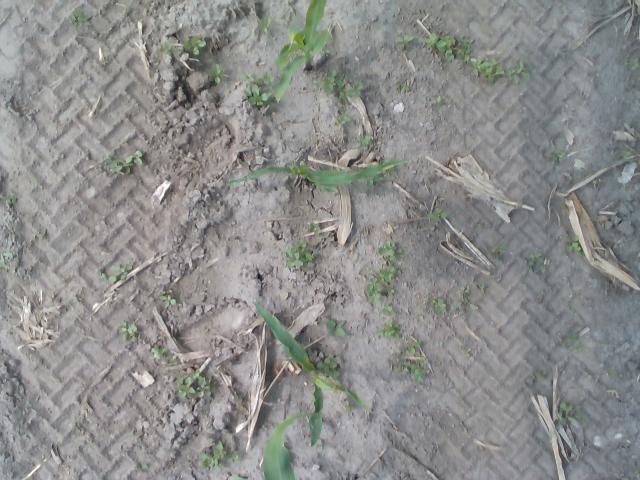Maize: (250, 299, 376, 447), (228, 158, 412, 193), (275, 0, 332, 102), (261, 412, 330, 480)
Weeds: (426, 34, 456, 61), (472, 58, 505, 82), (202, 439, 226, 471), (288, 240, 314, 268), (243, 84, 272, 106), (379, 241, 404, 260), (378, 322, 401, 341), (316, 358, 340, 376), (184, 36, 206, 55), (510, 60, 529, 82), (457, 38, 473, 63), (318, 70, 336, 92), (412, 360, 429, 383), (208, 63, 227, 82), (528, 251, 545, 272), (367, 277, 380, 304), (326, 319, 346, 336), (428, 208, 448, 225), (120, 321, 137, 341), (179, 376, 195, 397), (355, 134, 373, 150), (566, 334, 582, 352), (565, 235, 581, 252), (112, 161, 130, 176), (452, 302, 479, 312), (114, 264, 132, 279), (256, 17, 272, 33), (335, 76, 346, 98), (380, 266, 394, 282), (346, 84, 364, 96), (402, 342, 420, 354), (433, 298, 448, 312), (72, 12, 85, 28), (158, 42, 172, 56), (126, 152, 142, 164), (258, 72, 274, 84), (396, 34, 414, 44), (152, 346, 167, 358), (396, 360, 411, 372), (160, 296, 177, 306), (560, 404, 572, 418), (526, 373, 543, 382), (228, 450, 240, 462), (101, 274, 116, 283), (340, 112, 350, 125), (398, 82, 411, 92), (0, 192, 16, 200), (382, 304, 393, 315), (243, 70, 253, 82), (368, 177, 383, 185), (310, 224, 320, 236), (196, 385, 209, 394), (0, 259, 10, 270), (190, 368, 200, 378), (104, 156, 115, 165), (572, 296, 581, 307), (138, 463, 150, 470), (4, 252, 14, 260), (198, 378, 208, 386), (362, 268, 372, 276), (632, 57, 638, 70), (387, 285, 395, 294), (622, 151, 630, 160), (461, 287, 468, 297), (610, 370, 618, 378), (497, 246, 505, 254), (464, 349, 472, 356), (479, 283, 486, 291), (558, 152, 564, 160), (161, 290, 173, 294), (74, 296, 82, 302), (437, 96, 442, 102), (624, 60, 628, 66), (592, 180, 596, 184)
